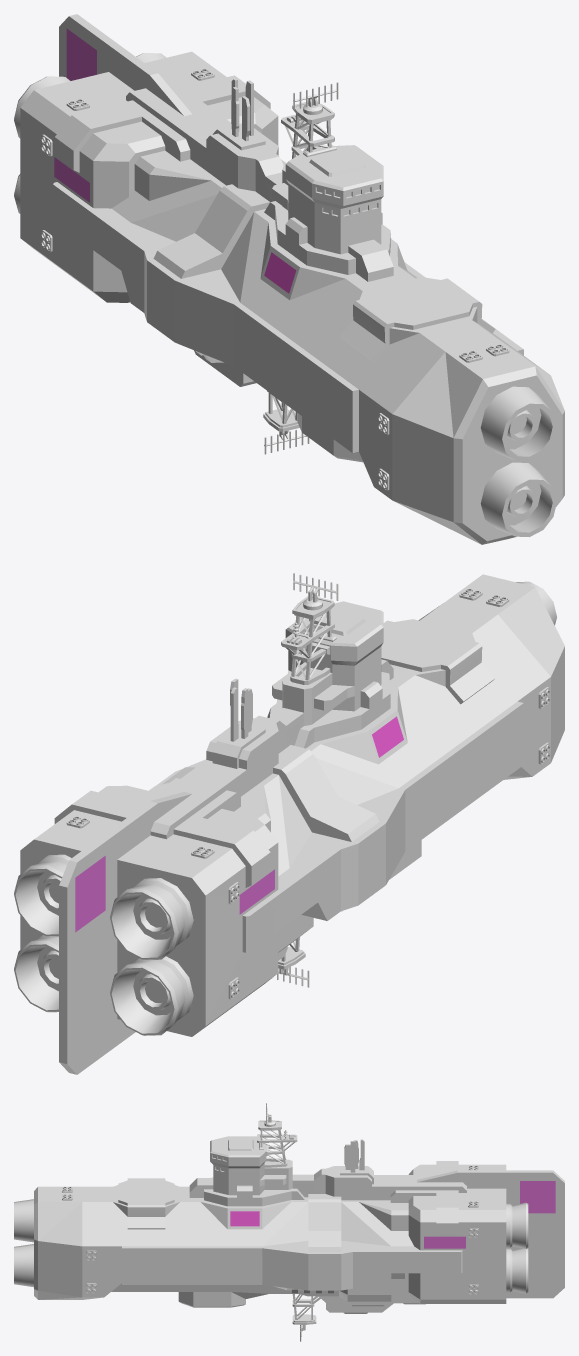
The picture shows the model from 3 angles, top to bottom: view 1: azimuth 30°, elevation 25°; view 2: azimuth 150°, elevation 25°; view 3: azimuth 270°, elevation 25°; orthographic projection. The views are drawn at different scales.
Visible parts, largest first — view 1: HU CA Hull Bow, HU CA Hull Stern, HU CA Engines, HU CA Bot Mast, HU CA Thrusters, HU CA Radar Top; view 2: HU CA Hull Stern, HU CA Hull Bow, HU CA Engines, HU CA Bot Mast, HU CA Thrusters, HU CA Thruster Glow, HU CA Radar Top; view 3: HU CA Hull Stern, HU CA Hull Bow, HU CA Engines, HU CA Bot Mast, HU CA Thrusters.
Part boxes in pixels (box(x1,y1,x2,y2)): HU CA Hull Bow: box(221, 145, 564, 544); HU CA Hull Stern: box(20, 14, 404, 386); HU CA Engines: box(14, 53, 556, 537); HU CA Bot Mast: box(263, 101, 336, 431); HU CA Thrusters: box(41, 69, 509, 490); HU CA Radar Top: box(293, 82, 338, 114); HU CA Hull Stern: box(20, 678, 405, 1074); HU CA Hull Bow: box(267, 574, 564, 879); HU CA Engines: box(14, 581, 556, 1035); HU CA Bot Mast: box(278, 596, 336, 969); HU CA Thrusters: box(66, 588, 549, 999); HU CA Thruster Glow: box(49, 590, 547, 1002); HU CA Radar Top: box(293, 573, 338, 610); HU CA Hull Stern: box(262, 1139, 564, 1313); HU CA Hull Bow: box(34, 1136, 338, 1307); HU CA Engines: box(14, 1199, 528, 1293); HU CA Bot Mast: box(257, 1120, 320, 1324); HU CA Thrusters: box(62, 1165, 478, 1294).
Size of the model in its own units: 502 by 1922 by 869.
